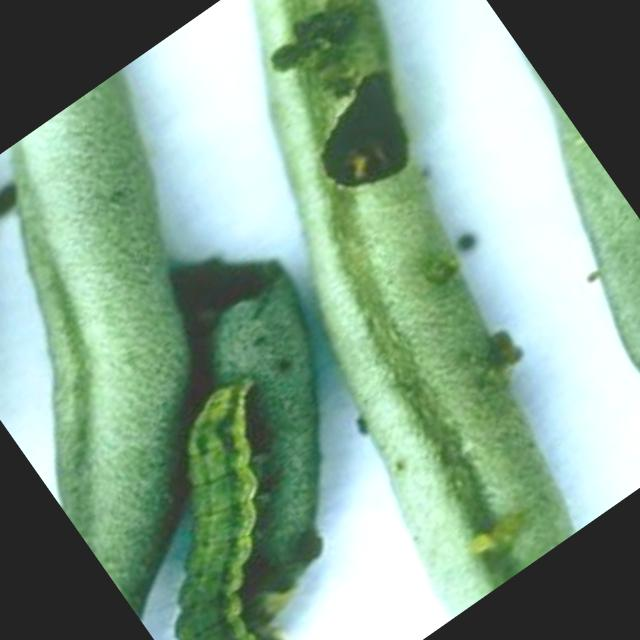Cotton bollworm: (38, 333, 415, 640)
